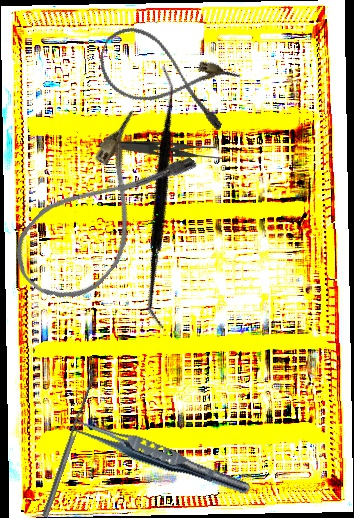Cannula: (0, 106, 202, 319), (89, 18, 244, 136)
Dressing Forceps: (98, 141, 224, 161)
Spatula Surgical: (49, 63, 277, 331), (36, 368, 98, 518)
Tissue Forceps: (60, 411, 254, 500)
